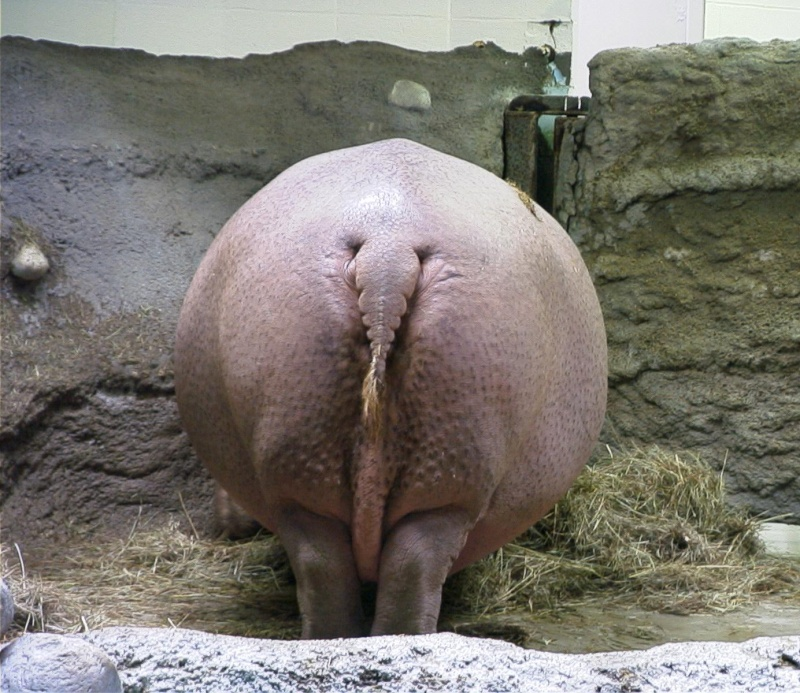hipopotamo: (169, 136, 610, 620)
